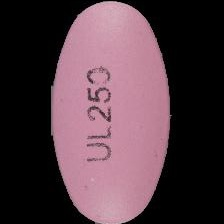29300-139: (0, 0, 224, 224)
